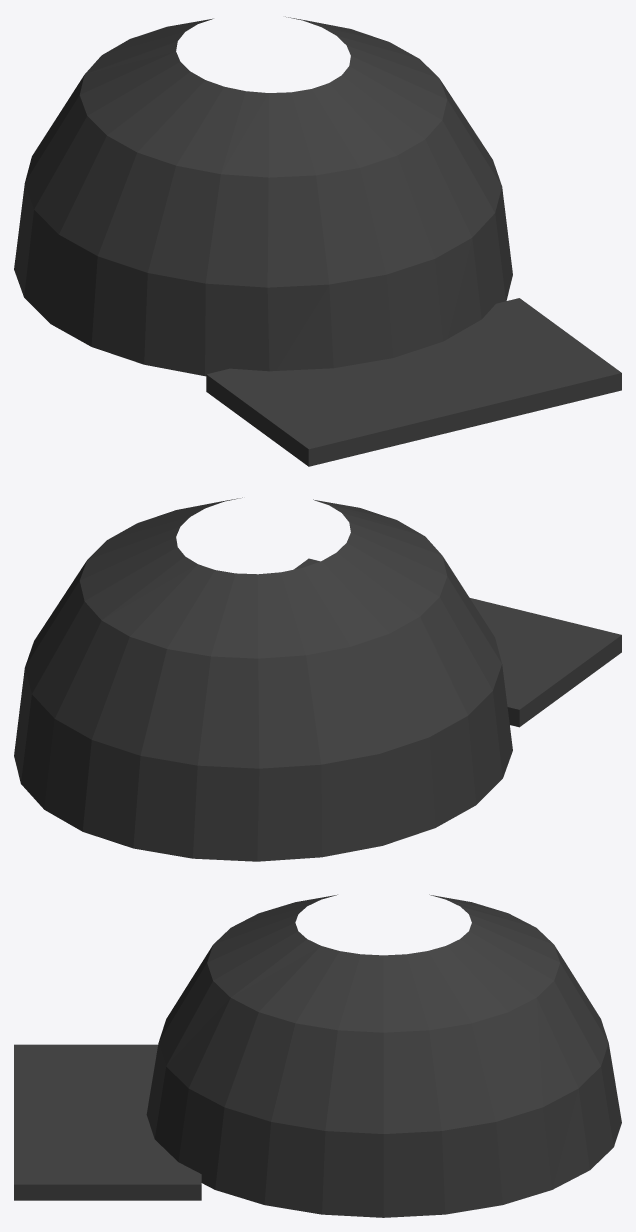
The model's file is hat_cap.glb.
3 views of the same model, one above another, from view 1: azimuth 30°, elevation 25°; view 2: azimuth 150°, elevation 25°; view 3: azimuth 270°, elevation 25° (orthographic). The views are drawn at different scales.
Parts seen in each view (by area): view 1: geometry_0; view 2: geometry_0; view 3: geometry_0.
Part boxes in pixels (<box>): geometry_0: <box>14,16,621,466</box>; geometry_0: <box>14,497,621,861</box>; geometry_0: <box>14,894,621,1217</box>.
Bounding box in the file's own units: 0.204 × 0.104 × 0.2755.
Materials: 1 (1 with a texture image).
